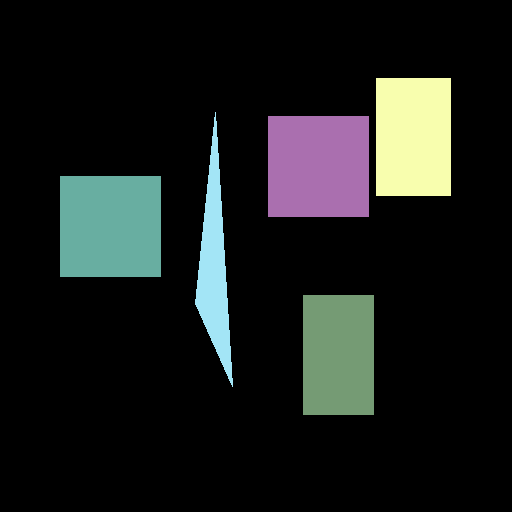rectangle: (376, 78, 450, 195), (303, 295, 373, 414)
square: (60, 176, 160, 276), (268, 116, 368, 216)
triangle: (195, 112, 232, 386)
